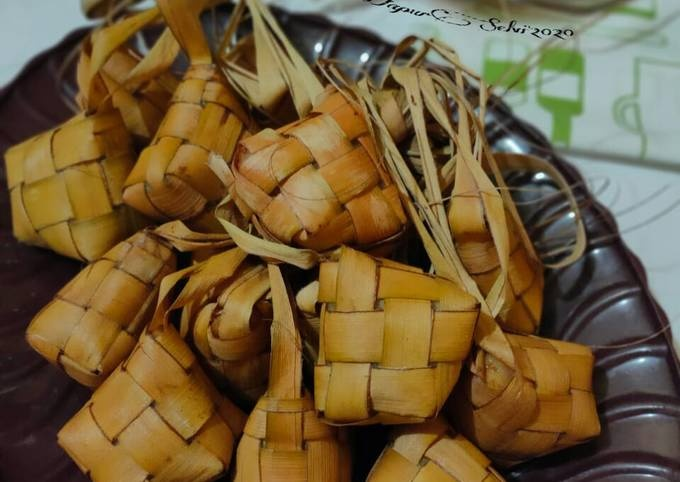ketupat: (313, 245, 480, 425), (235, 89, 409, 256), (455, 331, 601, 471), (6, 109, 135, 263)
